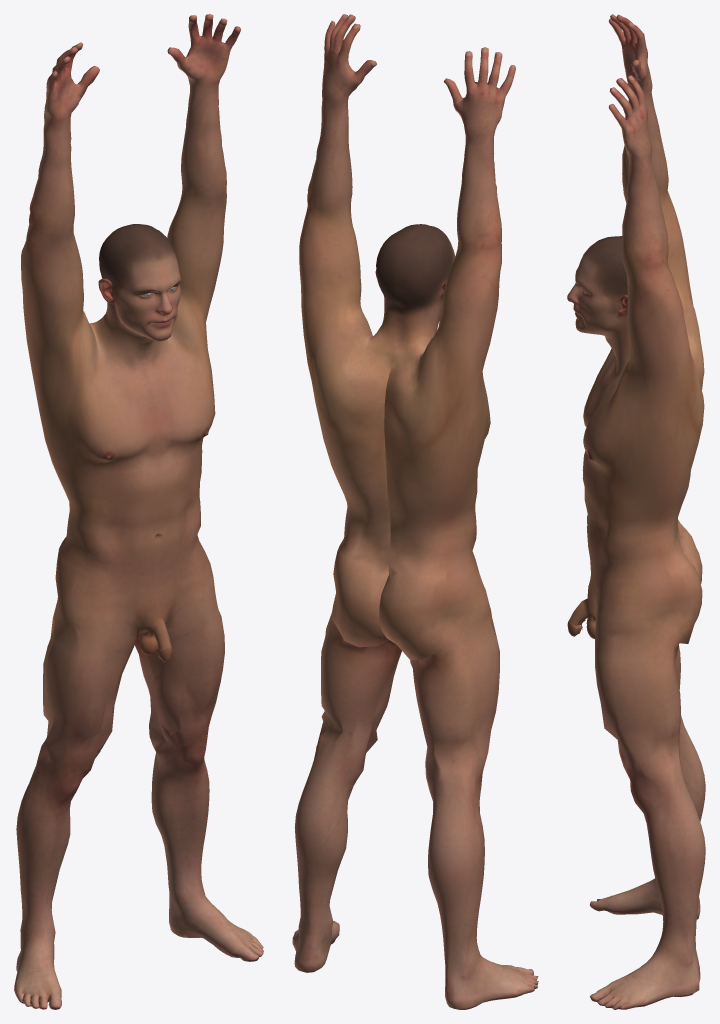
File: Hands up 1.fbx
3 renders of one model, left to right at view 1: azimuth 30°, elevation 25°; view 2: azimuth 150°, elevation 25°; view 3: azimuth 270°, elevation 25°, orthographic. The views are drawn at different scales.
Parts seen in each view (by area): view 1: body; view 2: body; view 3: body.
Boxes of the visible parts, x1,y1,x2,y2 form: body: (14,14,263,1009); body: (292,14,538,1009); body: (567,14,705,1009).
Bounding box in the file's own units: 6.21 × 23.47 × 3.24.
